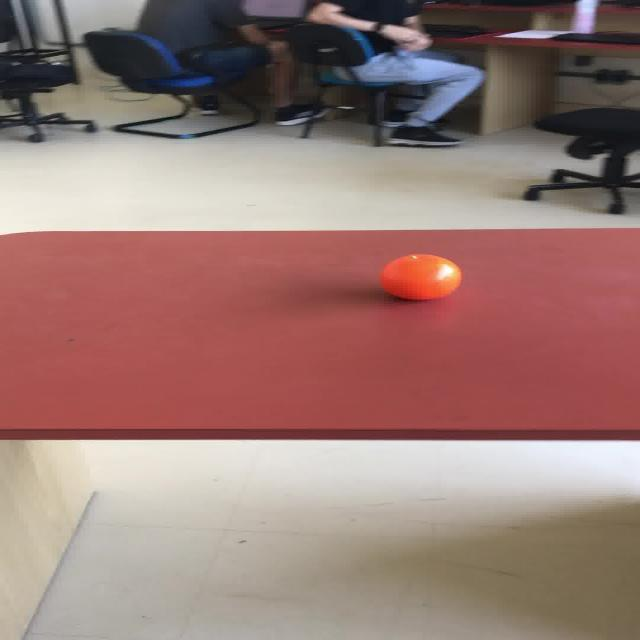orange: (378, 253, 461, 300)
